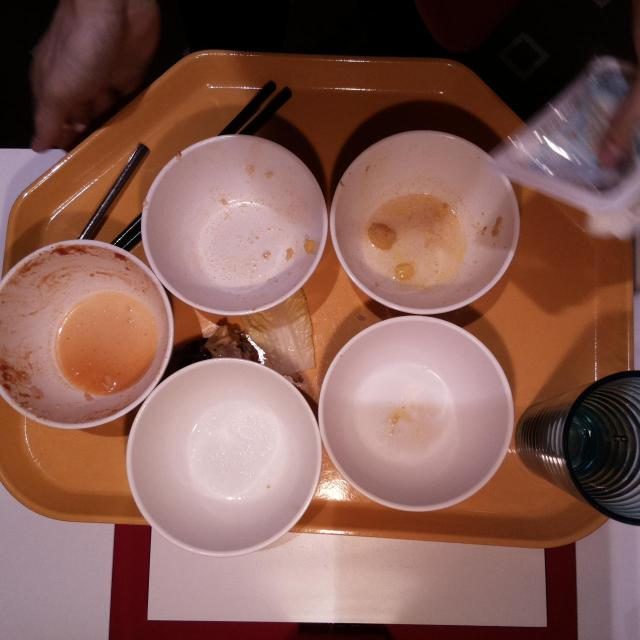Vegetable: (227, 284, 319, 371)
